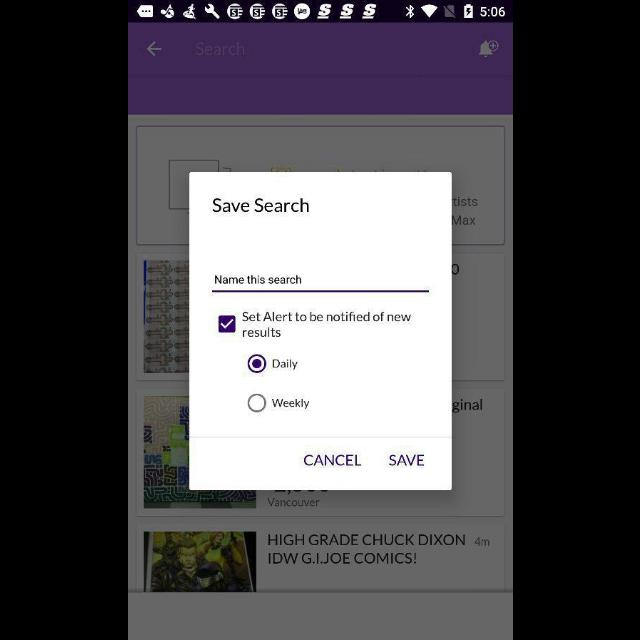checkbox: (247, 353, 266, 372), (247, 393, 265, 412), (218, 316, 235, 332)
icon: (478, 40, 498, 58), (146, 42, 162, 56)
image: (144, 532, 256, 592)
input: (212, 275, 428, 293)
panel: (188, 172, 450, 490)
text: (267, 534, 463, 564), (242, 312, 410, 338), (211, 196, 309, 214), (215, 276, 302, 284), (304, 454, 361, 466), (196, 43, 244, 57), (388, 454, 424, 466), (271, 399, 309, 409), (272, 360, 298, 370), (475, 538, 489, 546)
uppertaskbar: (128, 1, 512, 23)
